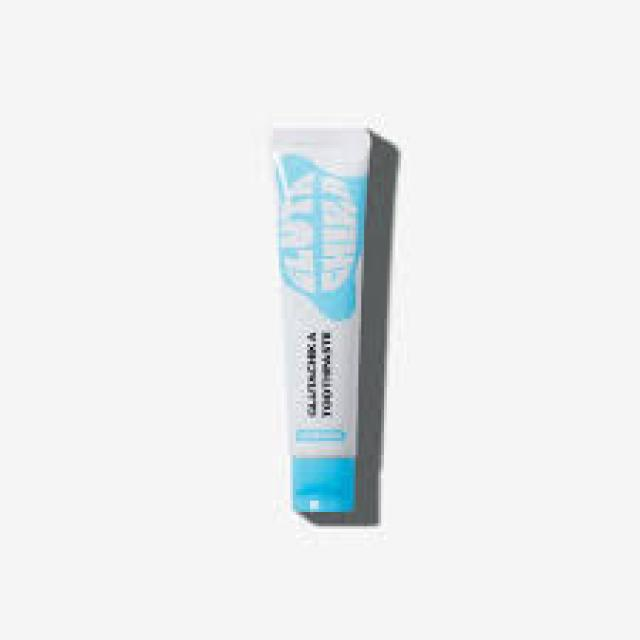toothpaste: (259, 115, 391, 548)
